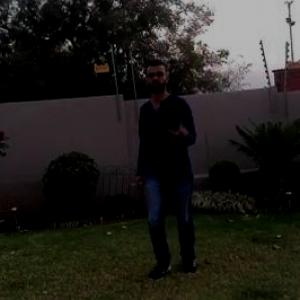land_hand: (164, 107, 195, 146)
